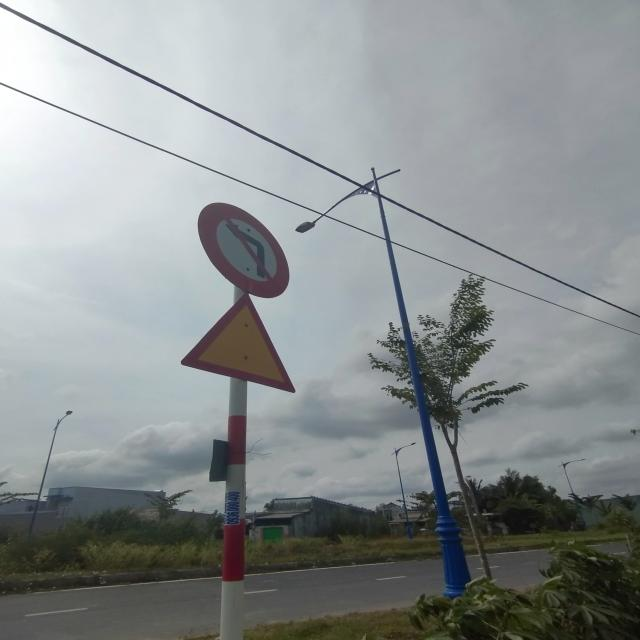Cam_Re_Trai: (198, 202, 290, 299)
Gioi_Han_Toc_Do_25: (180, 290, 298, 393)
